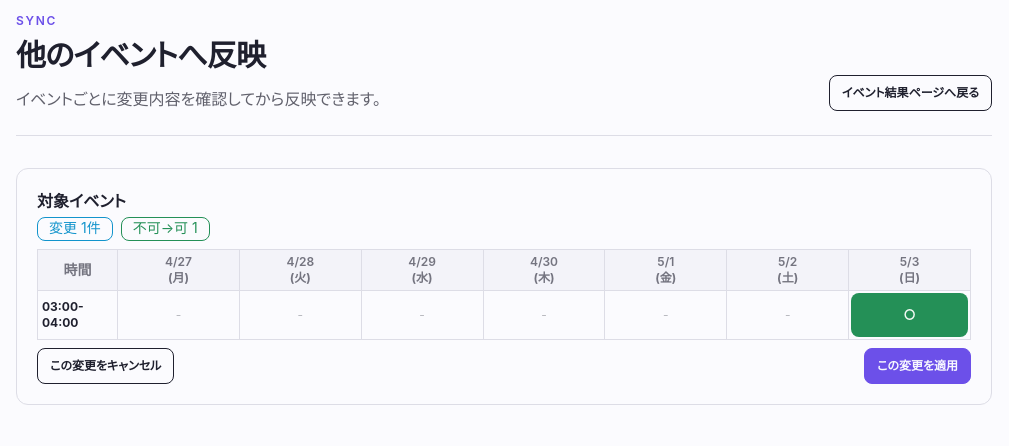
Scenario: SyncReviewPage › 適用失敗時はメッセージを表示してページに残る
Click the button with test id "sync-review-apply-other-event".
click(918, 366)  # box 864,348 -> 971,384
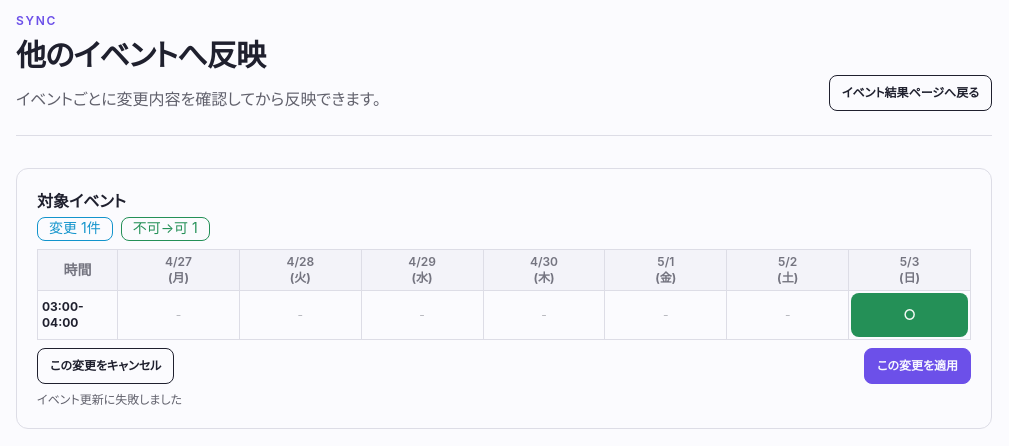
Expected: the text "イベント更新に失敗しました" is shown, 37,392 -> 182,406
